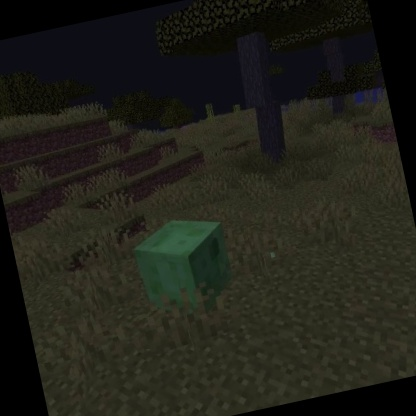slime: (125, 207, 242, 327)
